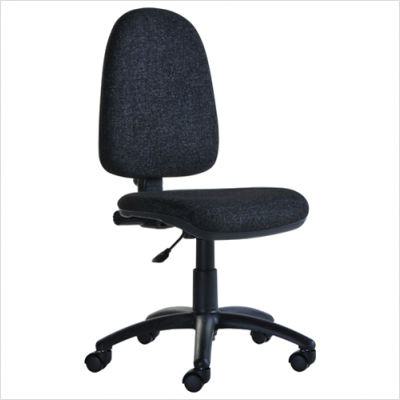chairs: (79, 5, 317, 394)
